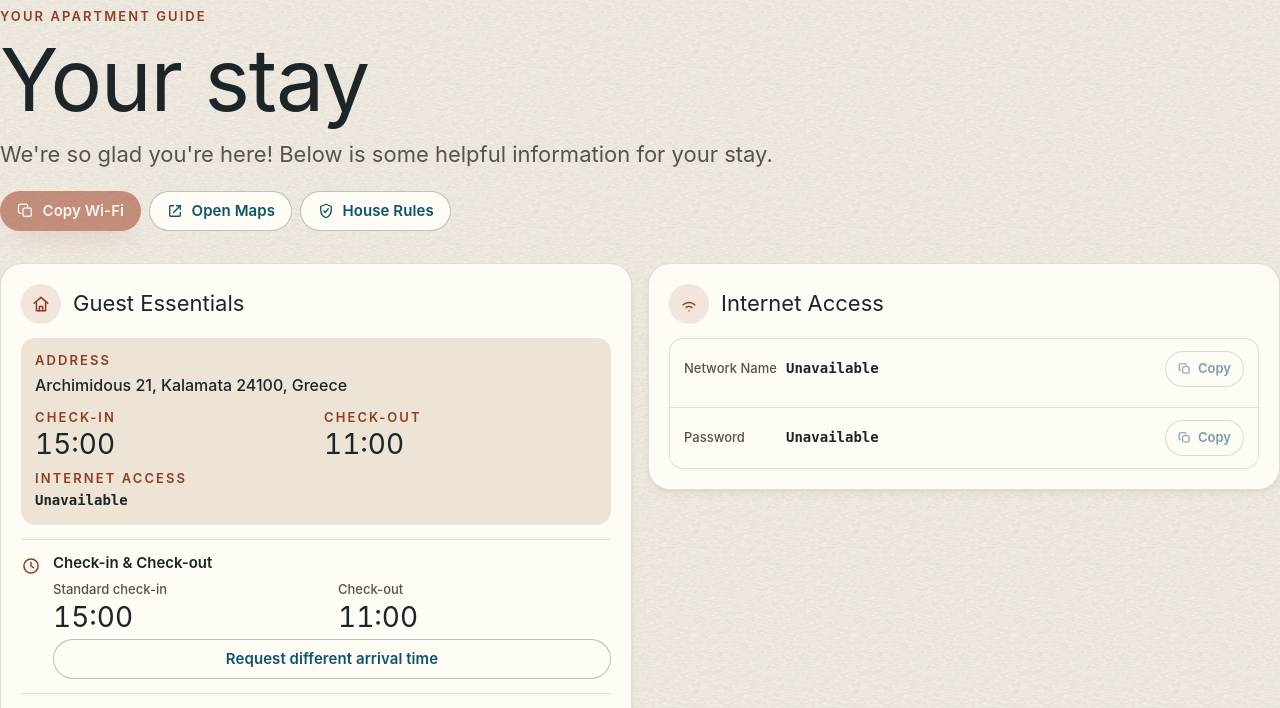
Scenario: check-in arrival-time request › confirms a request the server accepted
Step 1. Click the button "Request different arrival time" → (332, 659), box [53, 639, 611, 679]
(page scrolled)
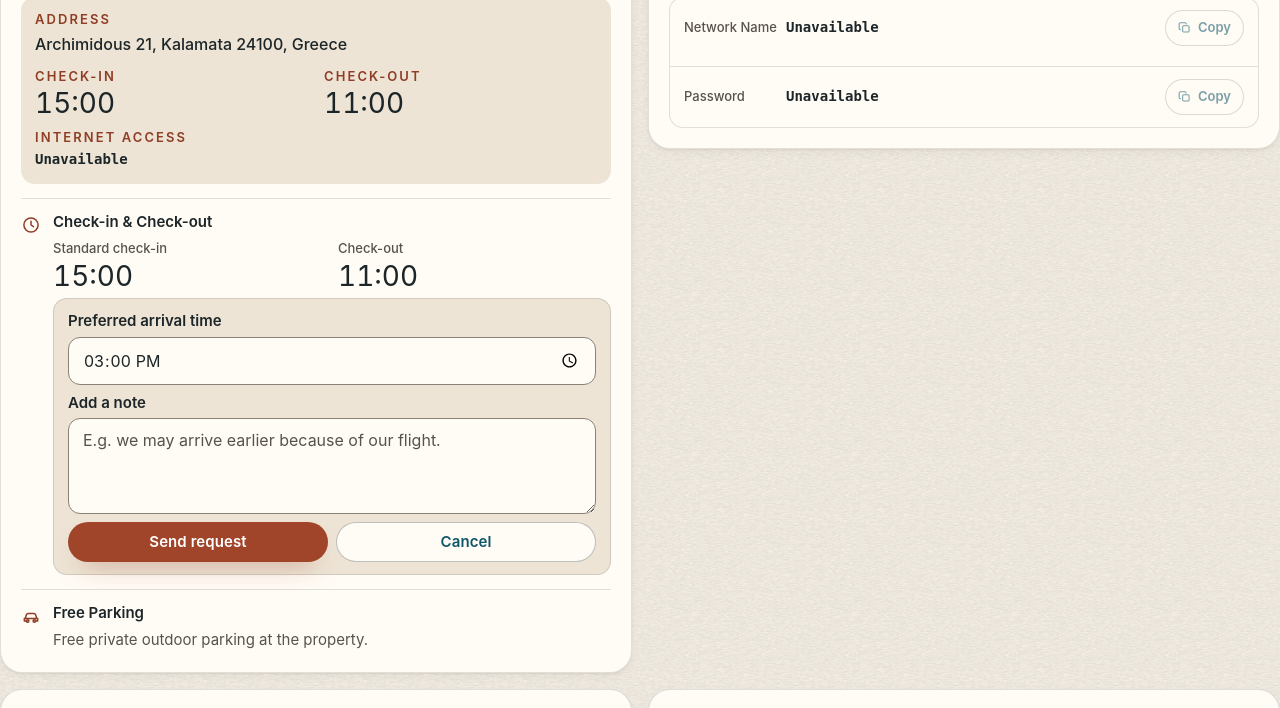
Step 2. Replace the text in the time field labelled "Preferred arrival time" with "17:00" → (332, 361), box [68, 337, 596, 385]
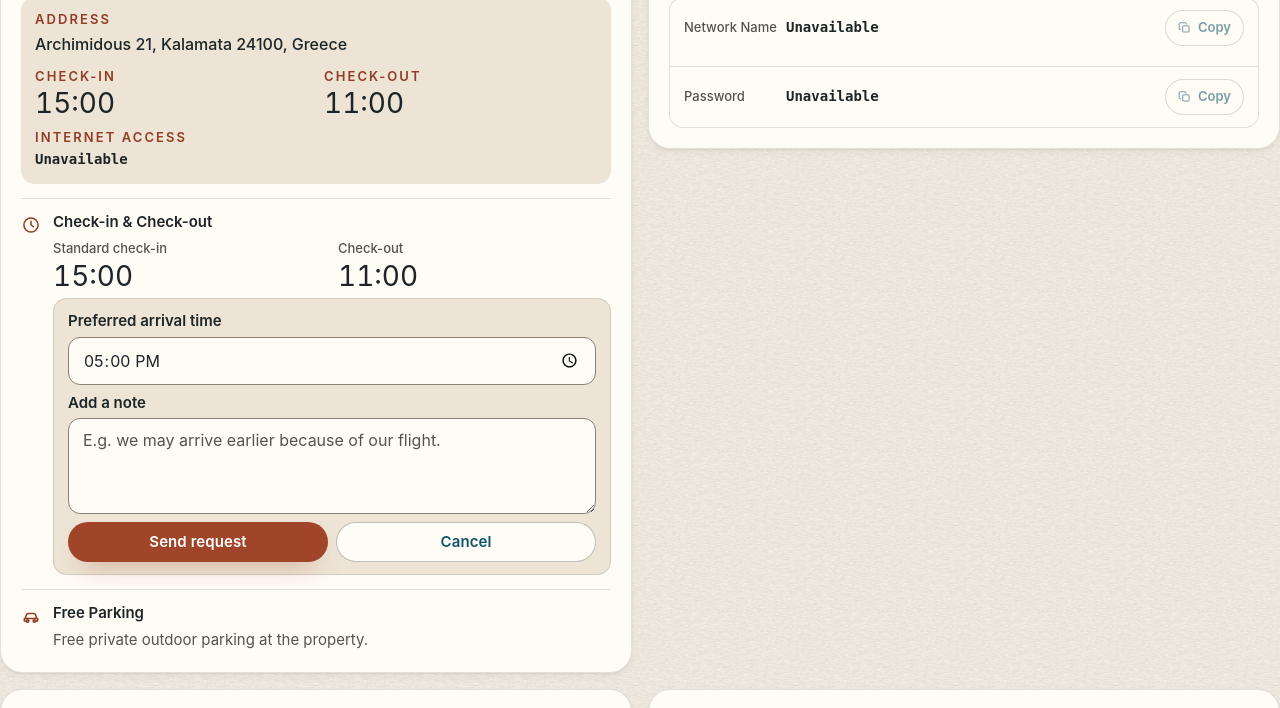
Step 3. Click the button "Send request" → (198, 542), box [68, 522, 328, 562]
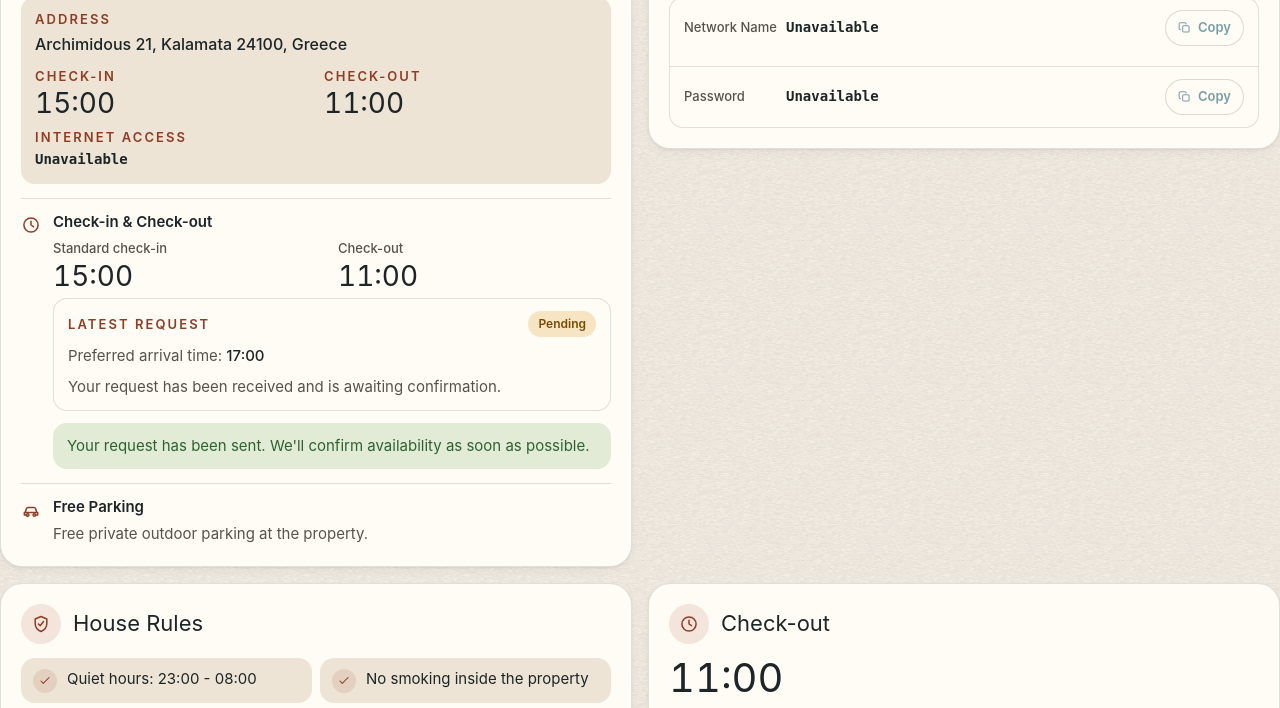
Check: the message shows "Your request has been sent", box [67, 436, 590, 455]
